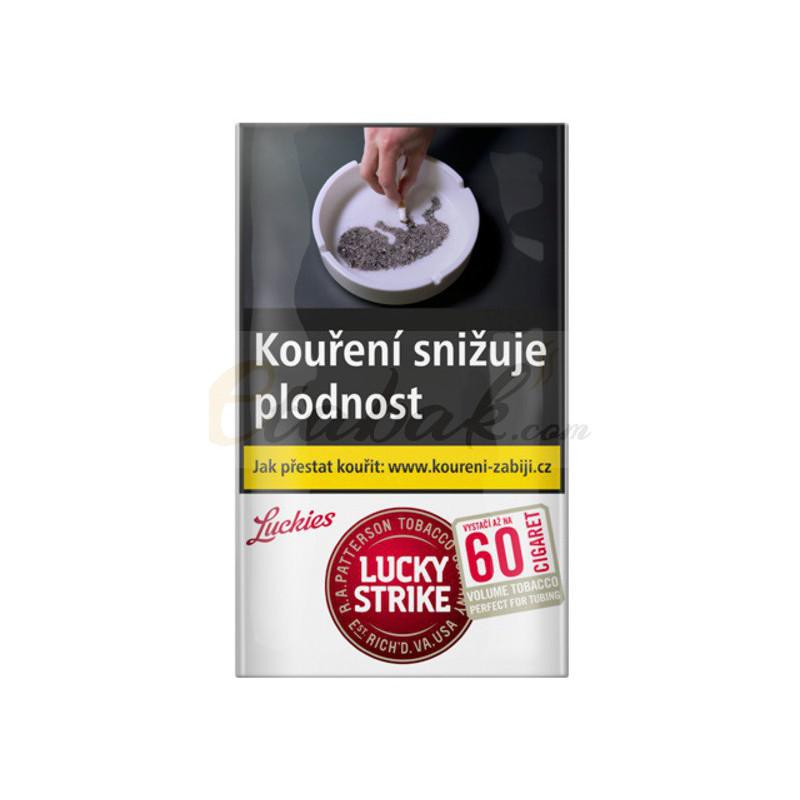lucky_strike_red: (243, 122, 572, 674)
